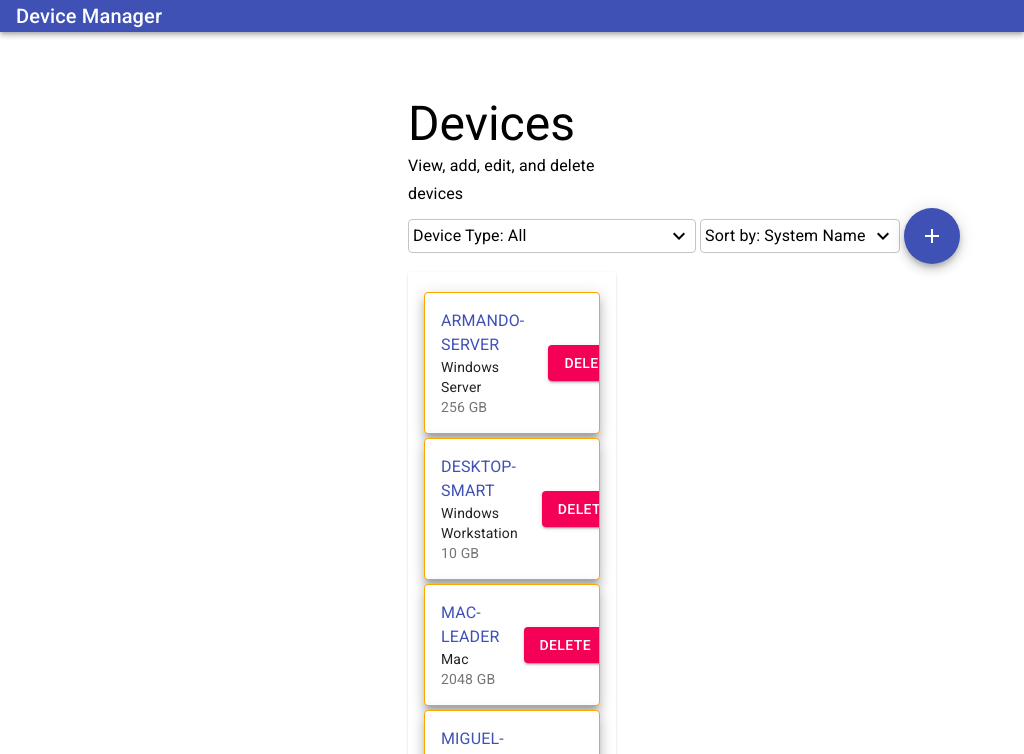
Test: The Dashboard › will filter by device type windows server
Check: the text "ARMANDO-SERVER" is shown, box [441, 309, 524, 357]
Click the element with test id "filter-option-dropdown".
click(552, 236)  # box [408, 219, 696, 253]
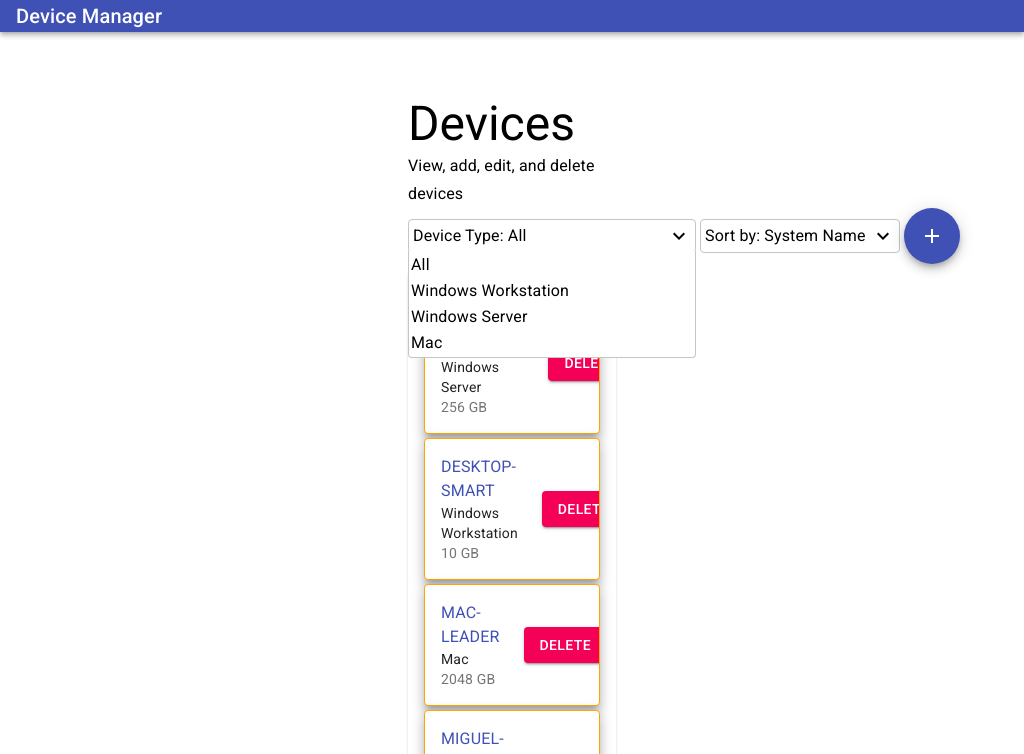
Click the list item with test id "filter-WINDOWS_SERVER".
click(469, 316)  # box [411, 307, 528, 326]
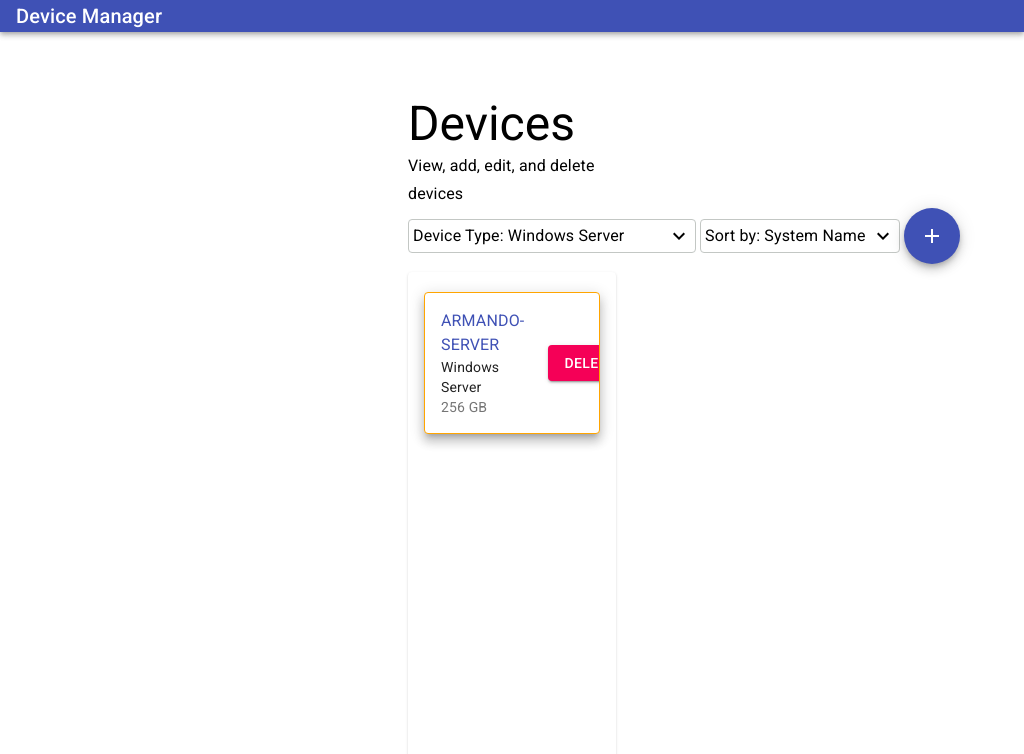
Check: the text "ARMANDO-SERVER" is shown, box [441, 309, 524, 357]
Check: the text "MAC-LEADER" is gone
Check: the text "DESKTOP-SMART" is gone
